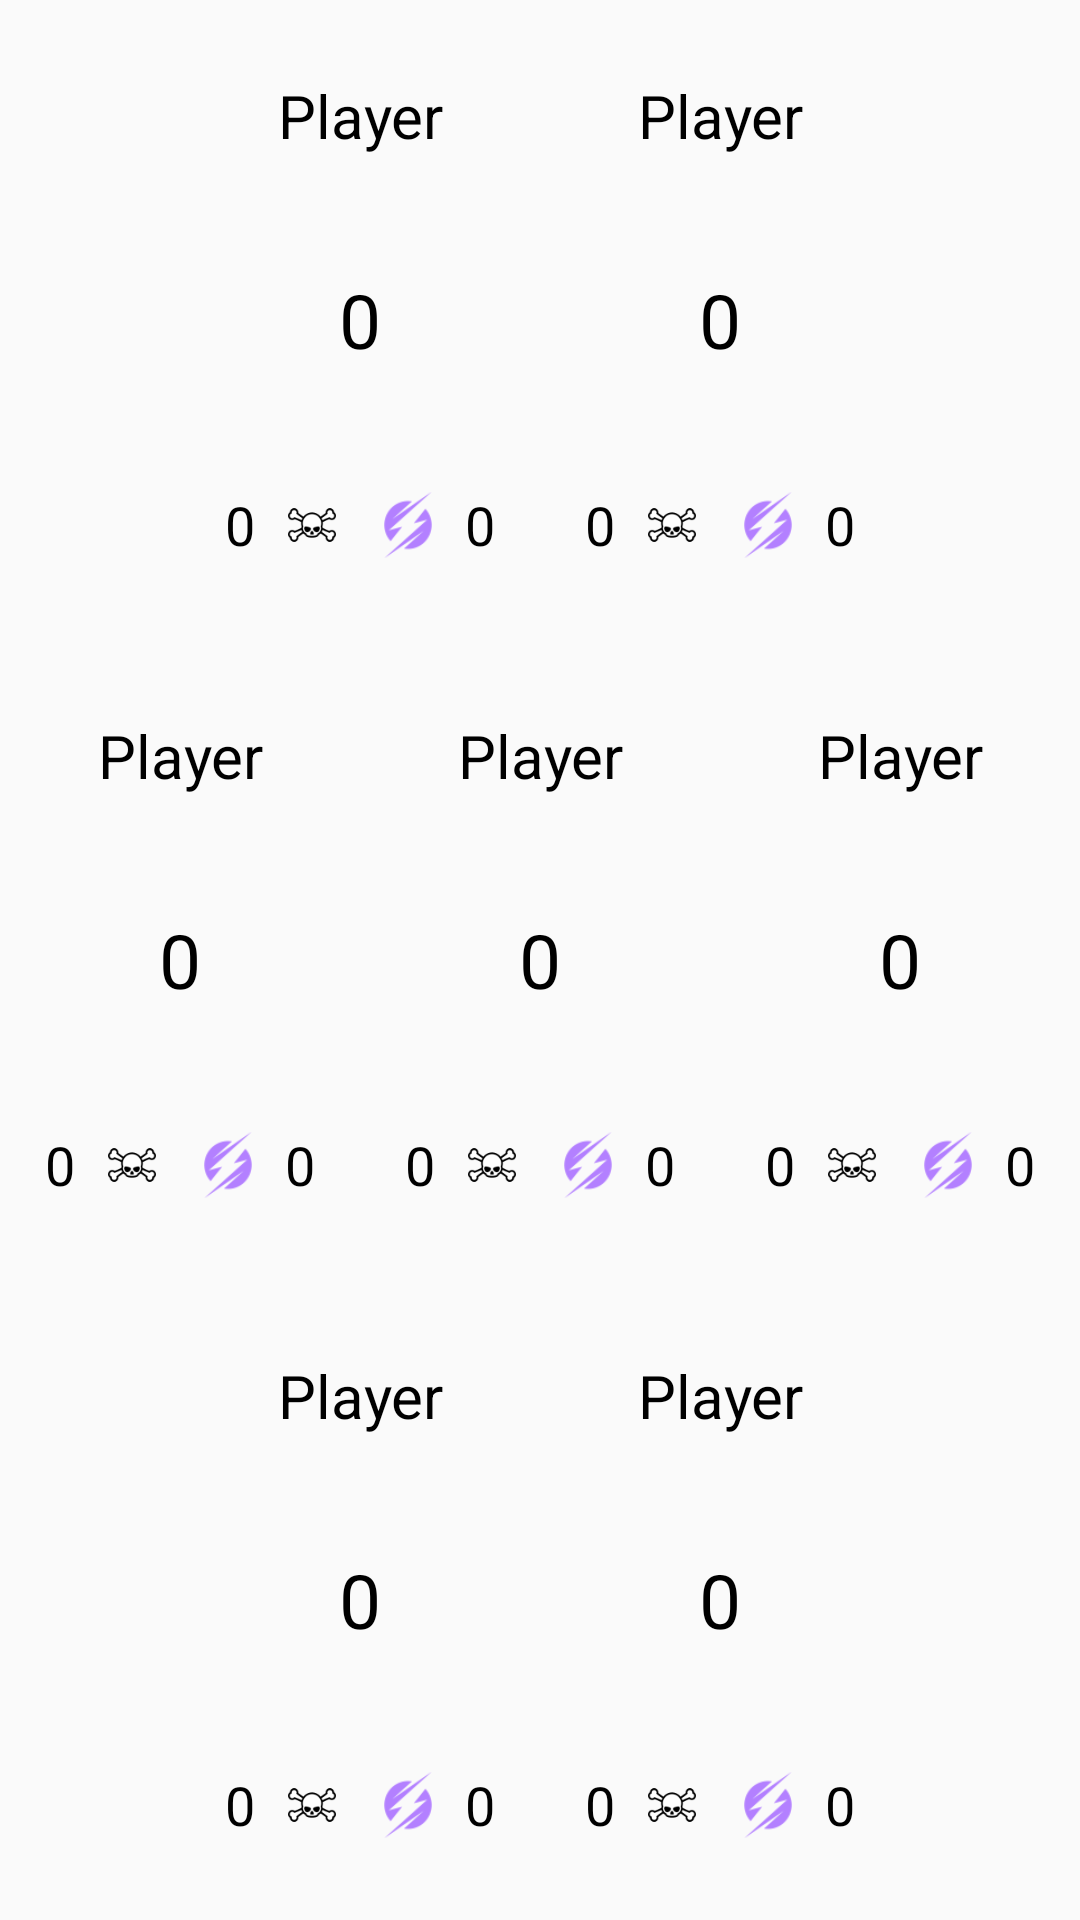

Icon click points for this 1080x1920 phone screenshot, format (x,y):
counter energy: (408,525), (768,525), (228,1165), (588,1165), (948,1165), (408,1805), (768,1805)
counter poison: (312,525), (672,525), (132,1165), (492,1165), (852,1165), (312,1805), (672,1805)
